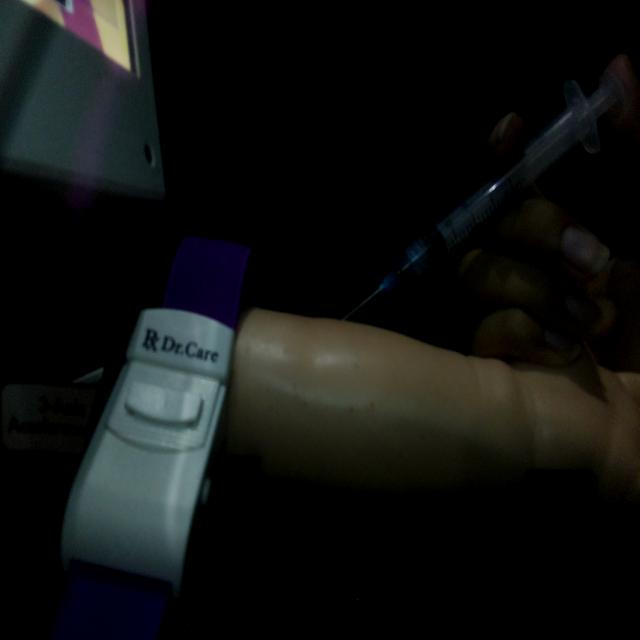30 degrees: (340, 71, 624, 325)
